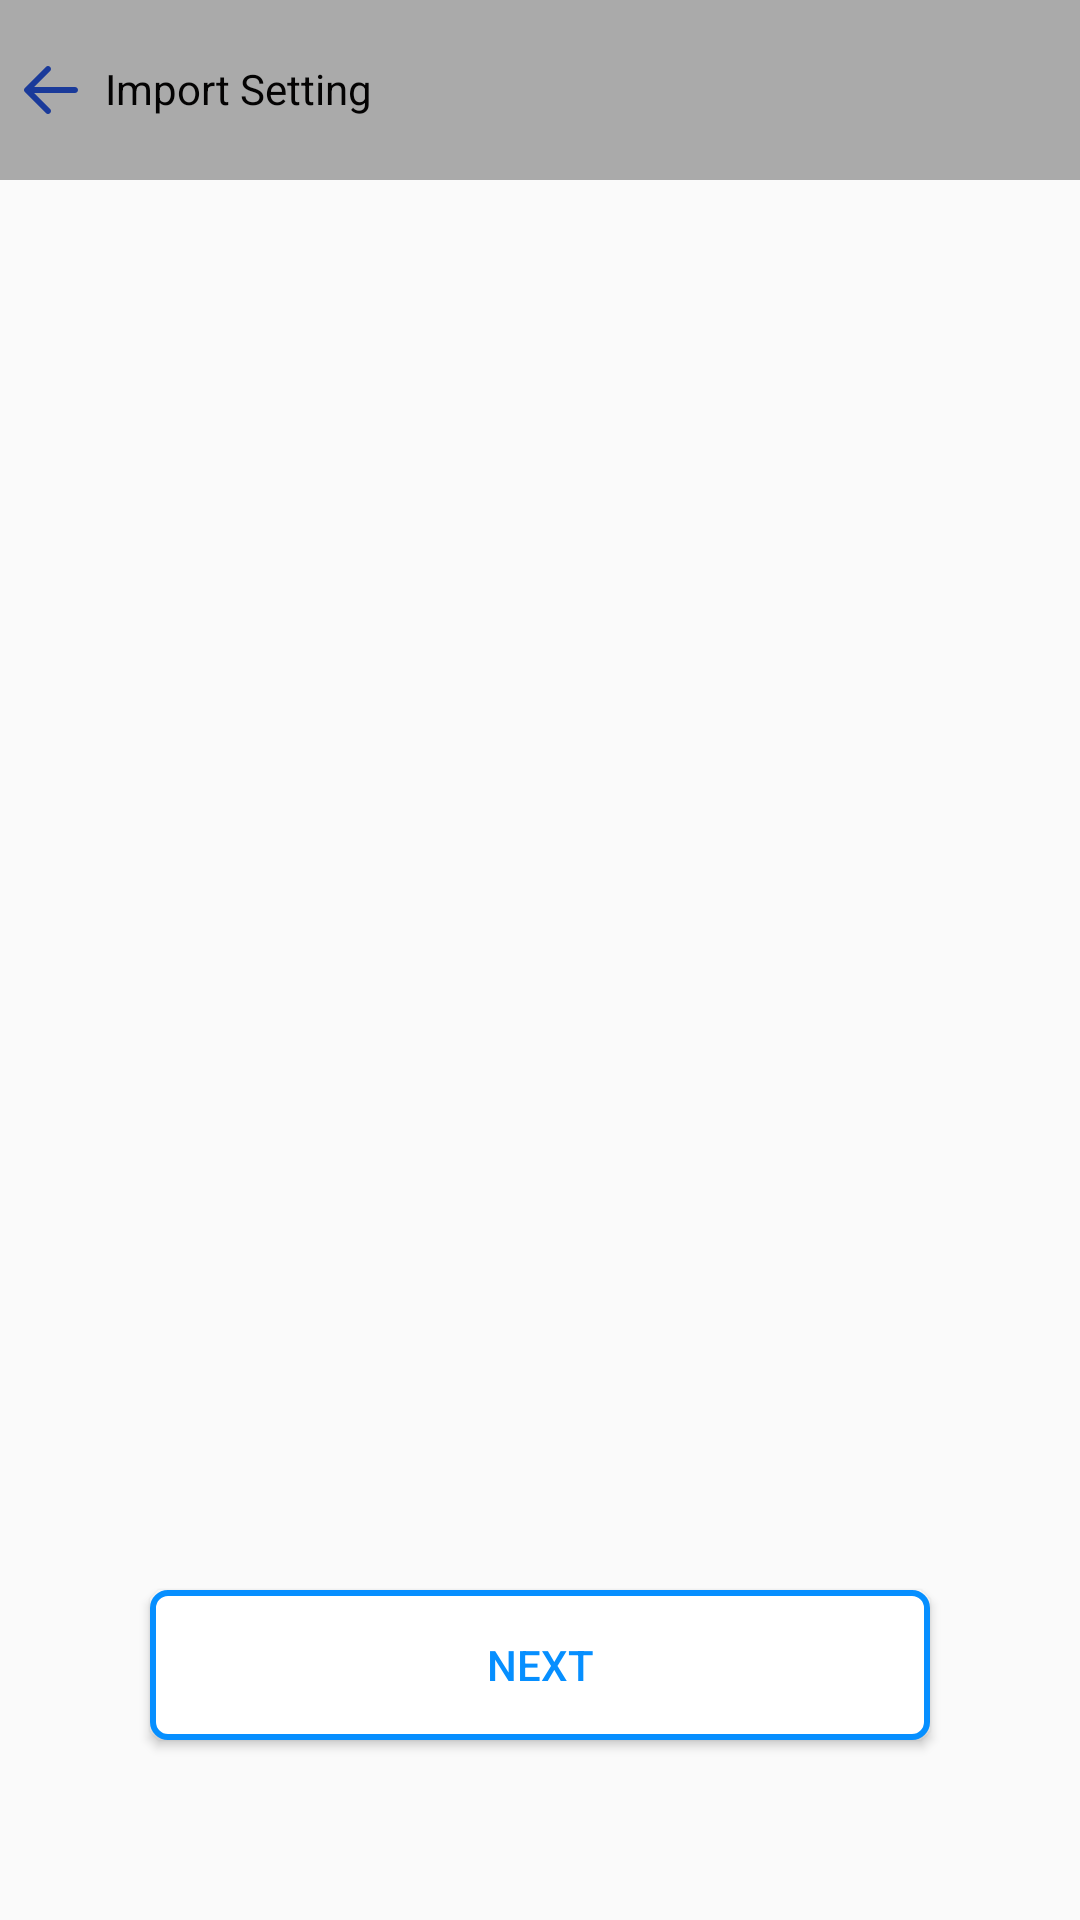

Locate icon controls on the screen. Image size 1080w x 1920h, boxes as detection(x1, y1, x2, y2).
left: detection(24, 66, 78, 114)
